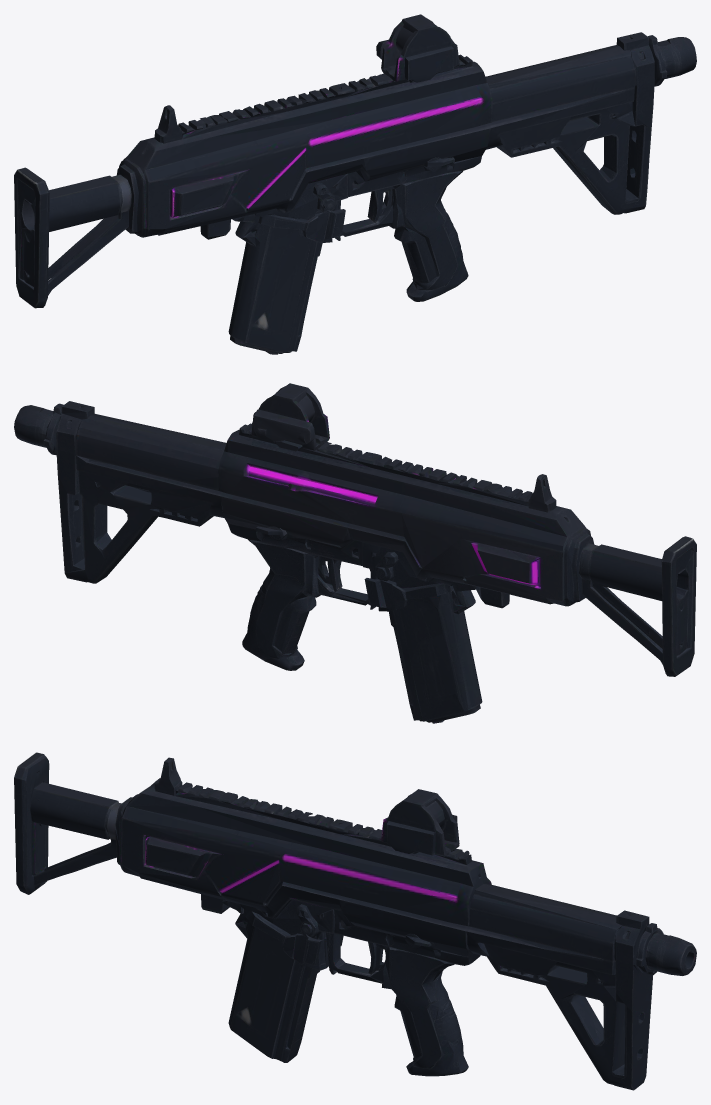
File: meshy_rifle.fbx
The picture shows the model from 3 angles, top to bottom: view 1: azimuth 30°, elevation 25°; view 2: azimuth 150°, elevation 25°; view 3: azimuth 330°, elevation 25°; orthographic projection.
Parts seen in each view (by area): view 1: meshy_rifle; view 2: meshy_rifle; view 3: meshy_rifle.
Boxes of the visible parts, x1,y1,x2,y2 form: meshy_rifle: [14, 14, 696, 354]; meshy_rifle: [14, 383, 696, 723]; meshy_rifle: [14, 752, 696, 1090].
Size of the model in its own units: 115 by 48.95 by 11.77.
